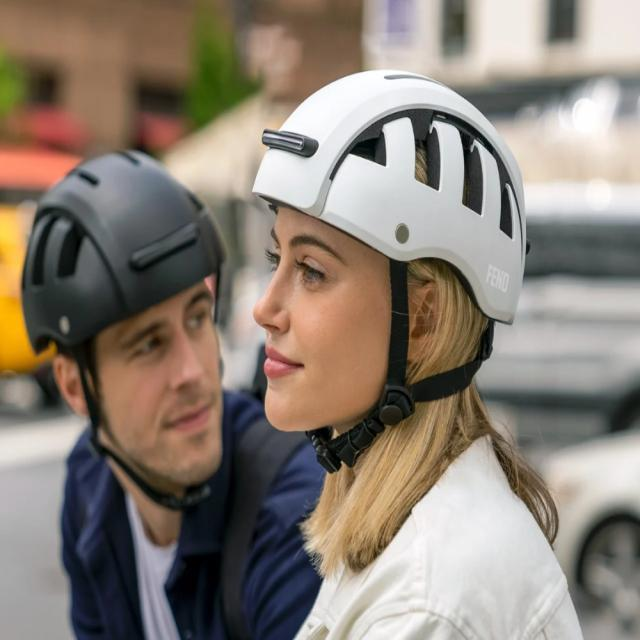helmet: (254, 62, 528, 476), (22, 144, 230, 512)
